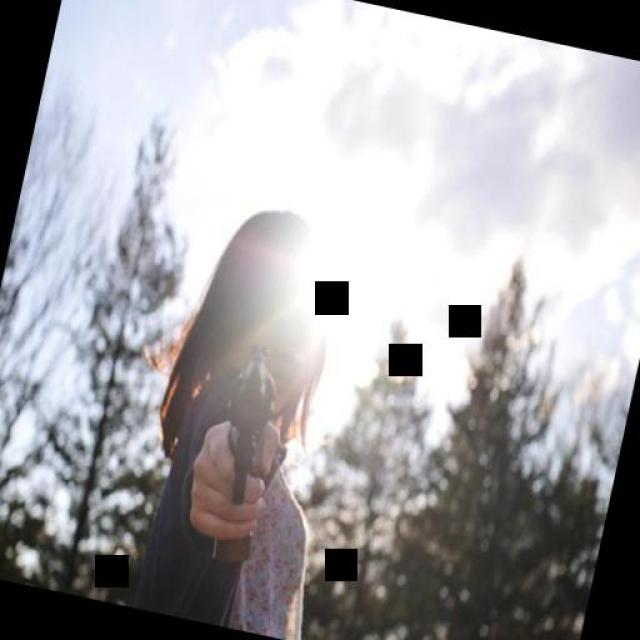gun: (188, 336, 302, 574)
